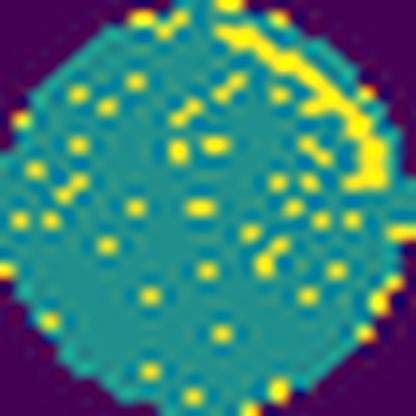Scratch: (208, 20, 390, 194)
